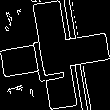L_N: (35, 27, 75, 83)
